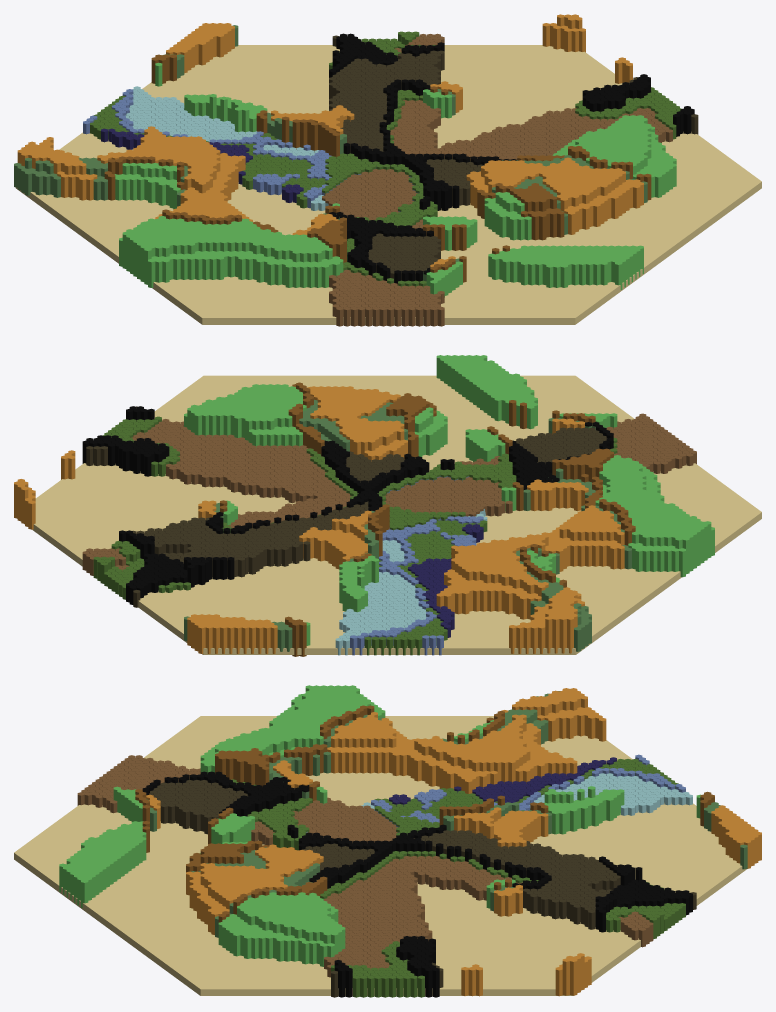
Rendered from 0041_tile_1120112.fbx.
The picture shows the model from 3 angles, top to bottom: view 1: azimuth 30°, elevation 25°; view 2: azimuth 150°, elevation 25°; view 3: azimuth 270°, elevation 25°; orthographic projection.
Parts seen in each view (by area): view 1: Plane; view 2: Plane; view 3: Plane.
Part boxes in pixels (left/top/right/bottom): Plane: left=14, top=14, right=761, bottom=326; Plane: left=14, top=355, right=761, bottom=656; Plane: left=14, top=685, right=761, bottom=997.
Size of the model in its own units: 1008 by 70.31 by 1152.
